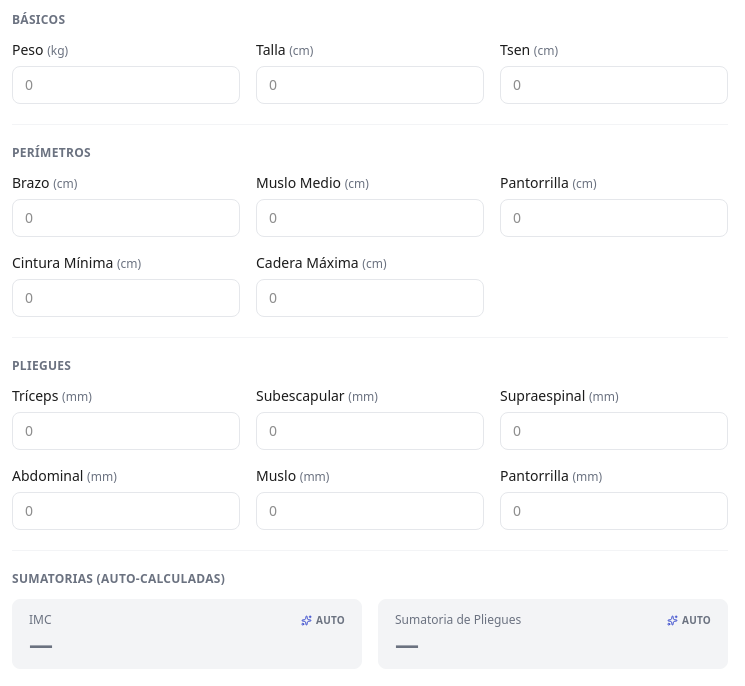
Test: AntropometriaSection › al escribir peso y talla se calcula el IMC en vivo
In the number field labelled "Peso (kg)": (126, 85) [12, 66, 240, 104], type "70"
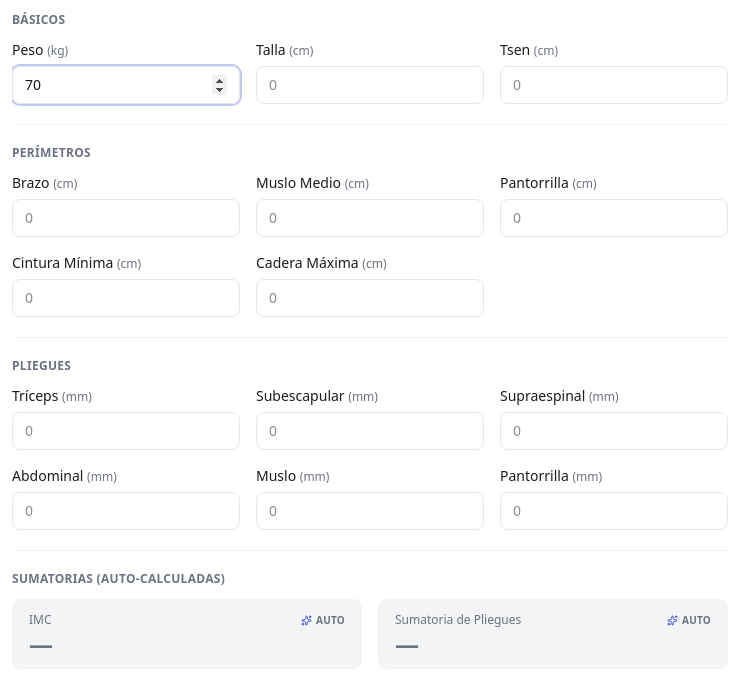
In the number field labelled "Talla (cm)": (370, 85) [256, 66, 484, 104], type "175"
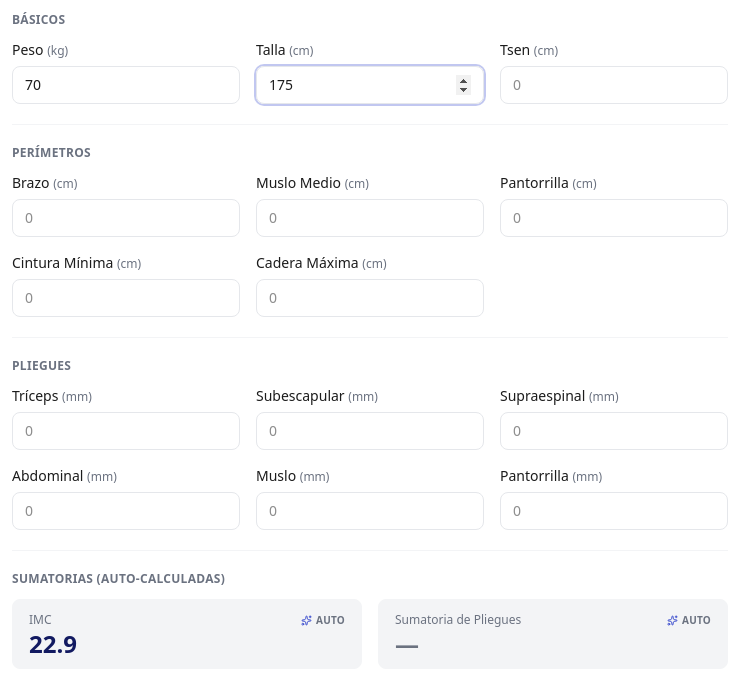
Result: the text "22.9" is shown at [29, 627, 77, 660]
